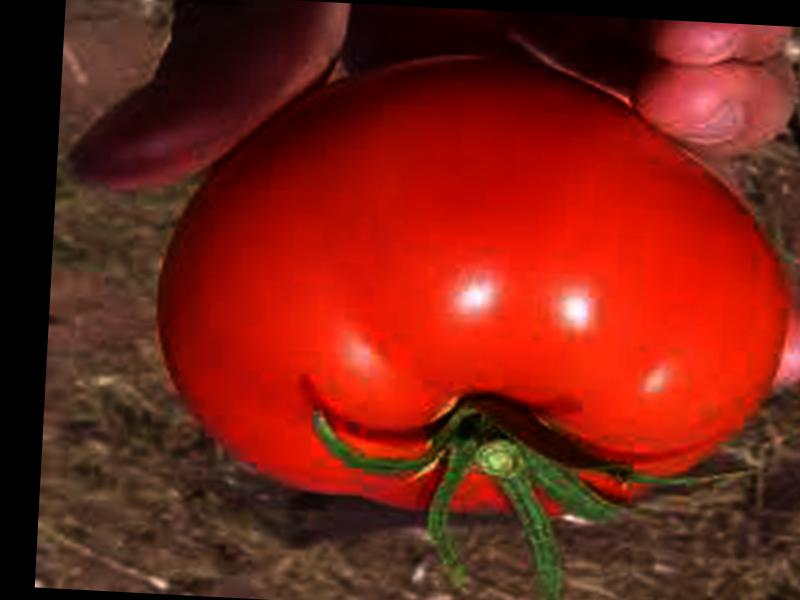Tomato: (147, 44, 799, 529)
